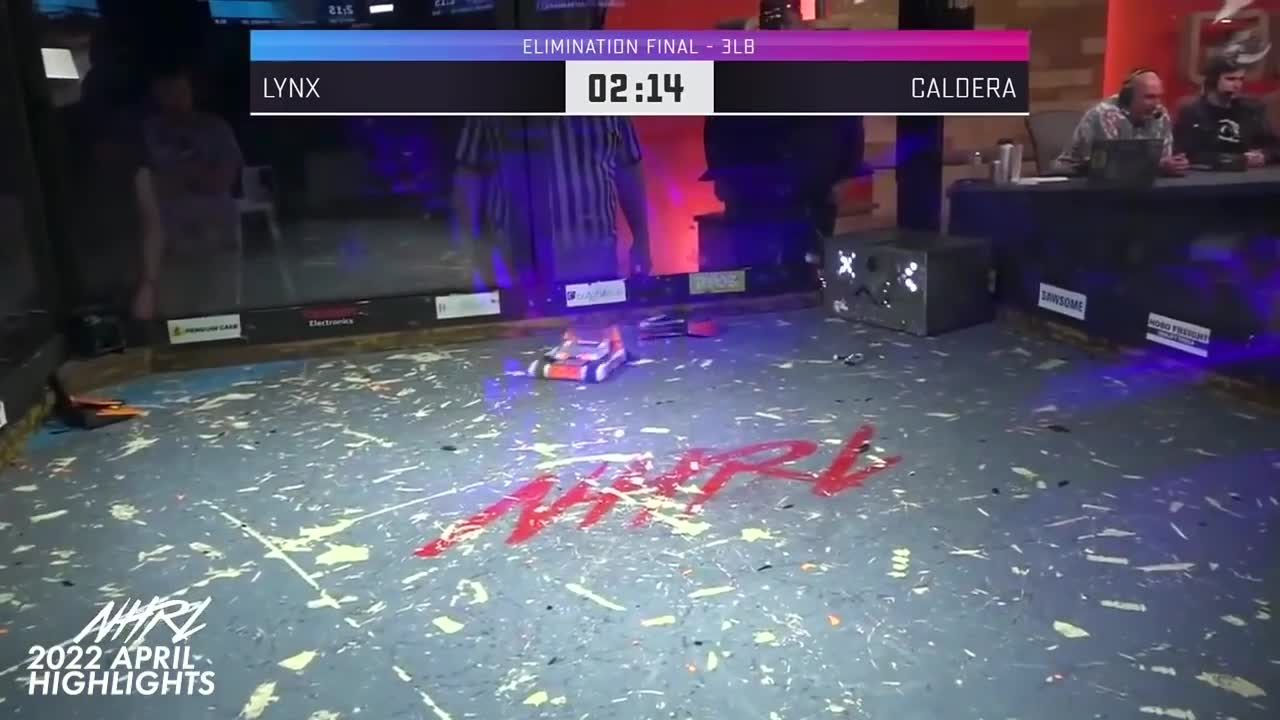combatbot: (532, 323, 629, 384), (638, 309, 723, 337)
debris: (835, 351, 862, 366)
housebot: (820, 237, 992, 336)
minibot: (43, 371, 146, 432)
